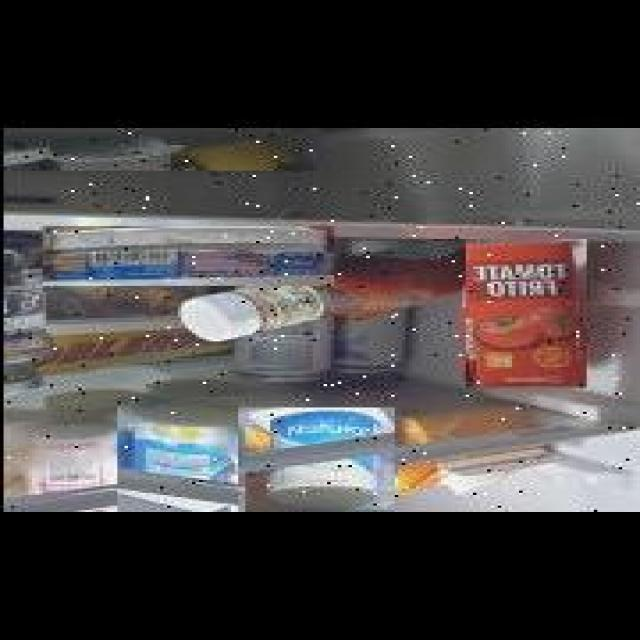cheese: (39, 224, 331, 284)
sausage: (0, 128, 313, 171)
tomato_sauce: (461, 236, 582, 386)
yogurt: (242, 407, 392, 512), (113, 397, 234, 512)
